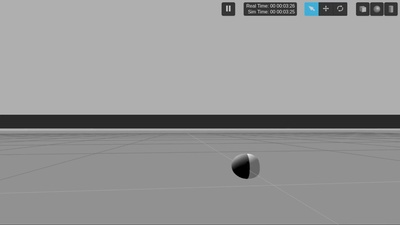mira_robot: (232, 153, 260, 178)
